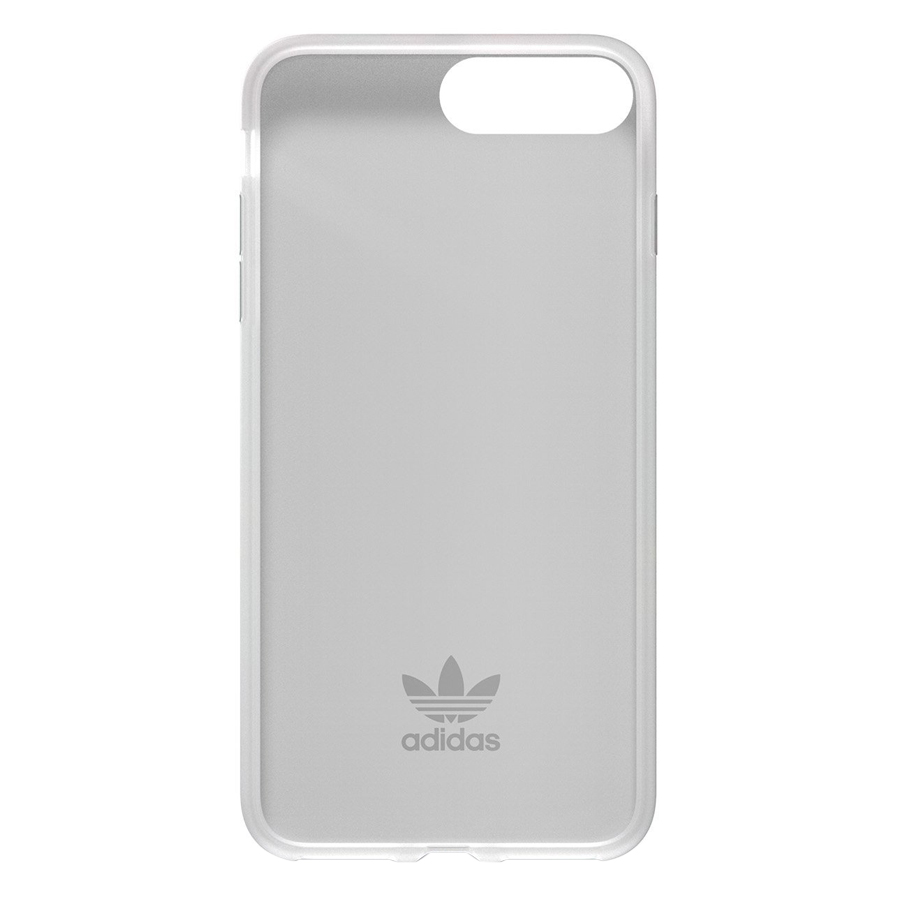Adidas: (392, 645, 508, 762)
